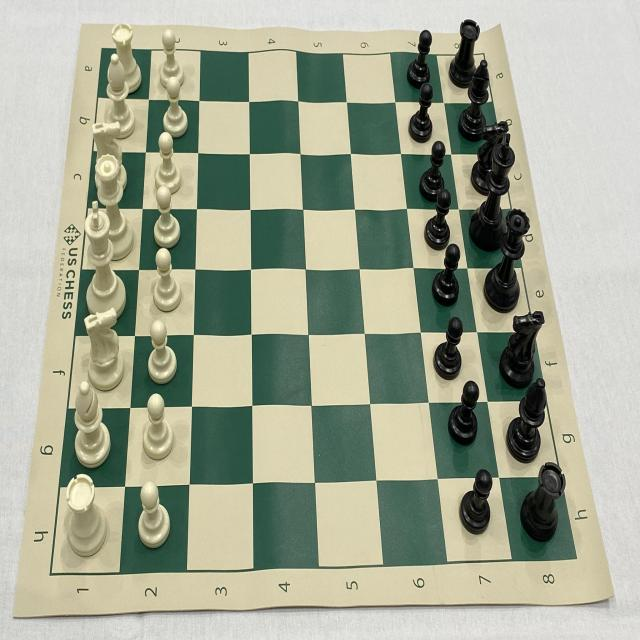black-bishop: (506, 377, 548, 461), (460, 56, 492, 142)
black-king: (469, 136, 517, 252)
black-knight: (498, 308, 546, 384), (470, 118, 512, 195)
black-pawn: (442, 377, 482, 449), (458, 468, 496, 538), (428, 314, 464, 379), (428, 243, 461, 307), (423, 189, 454, 252), (419, 139, 449, 202), (408, 82, 436, 143), (406, 27, 432, 90)
black-queen: (483, 203, 531, 314)
black-rook: (519, 462, 568, 544), (446, 12, 481, 92)
white-bishop: (70, 380, 113, 468), (102, 53, 136, 138)
white-king: (80, 197, 126, 322)
white-knight: (80, 306, 124, 390), (90, 120, 130, 192)
white-pawn: (132, 479, 172, 548), (138, 393, 174, 463), (145, 317, 178, 385), (150, 246, 182, 313), (152, 184, 184, 246), (159, 76, 188, 141), (151, 131, 180, 196), (156, 26, 184, 89)
white-queen: (93, 152, 134, 262)
white-rook: (61, 472, 107, 558), (108, 17, 143, 94)
